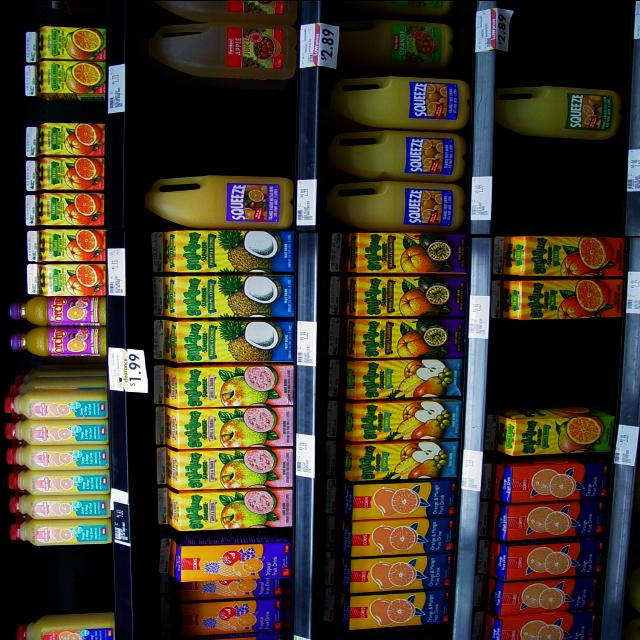empty_space: (132, 90, 284, 166), (502, 146, 617, 226), (499, 326, 617, 402), (515, 3, 629, 73), (20, 547, 112, 608), (28, 96, 107, 119), (25, 4, 101, 20)
